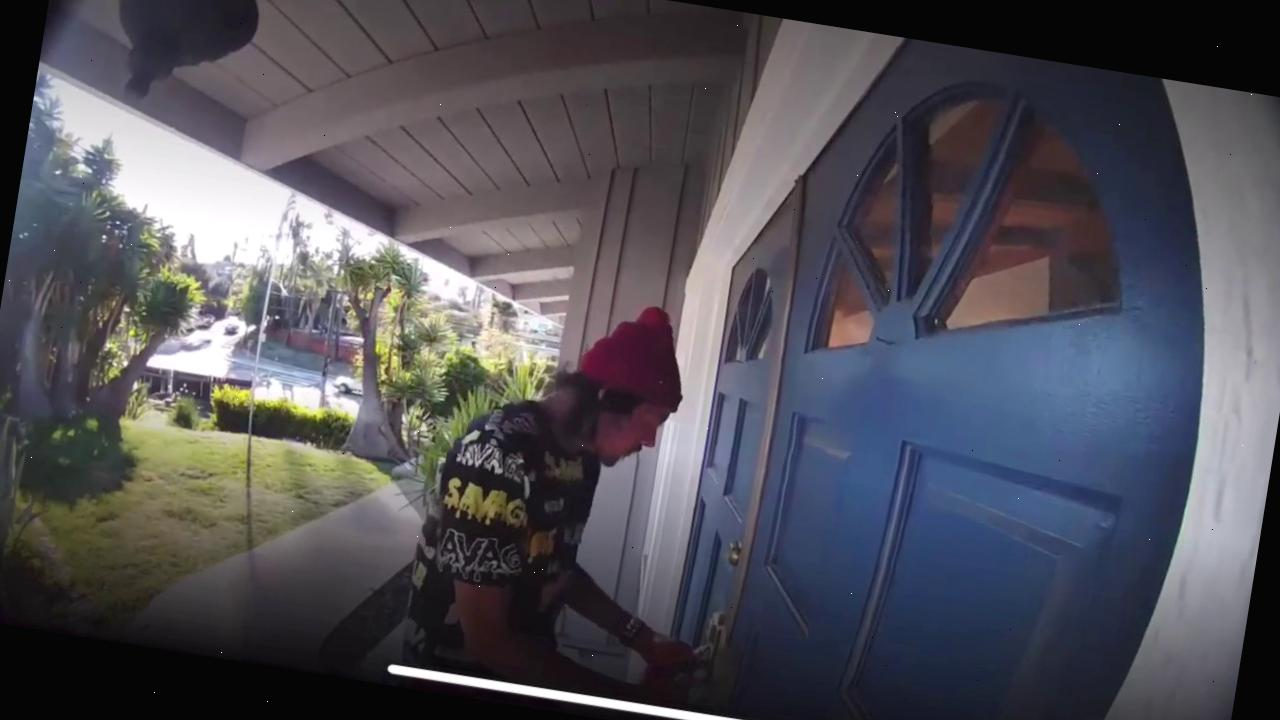suspicion: (349, 147, 814, 720)
